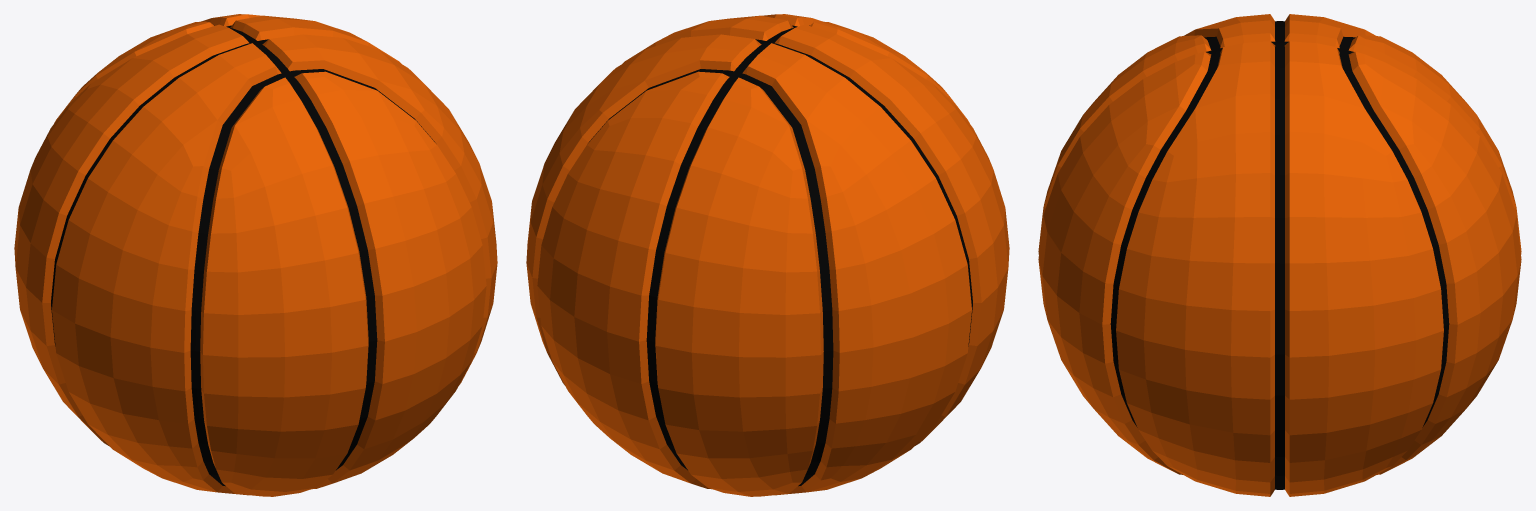
Rendered from Basketball.glb.
3 renders of one model, left to right at view 1: azimuth 30°, elevation 25°; view 2: azimuth 150°, elevation 25°; view 3: azimuth 270°, elevation 25°, orthographic.
Parts seen in each view (by area): view 1: Cube; view 2: Cube; view 3: Cube.
Boxes of the visible parts, bbox=[...] form: Cube: bbox=[14, 14, 497, 496]; Cube: bbox=[526, 14, 1009, 496]; Cube: bbox=[1038, 14, 1521, 496].
Bounding box in the file's own units: 1.64 × 1.63 × 1.64.
